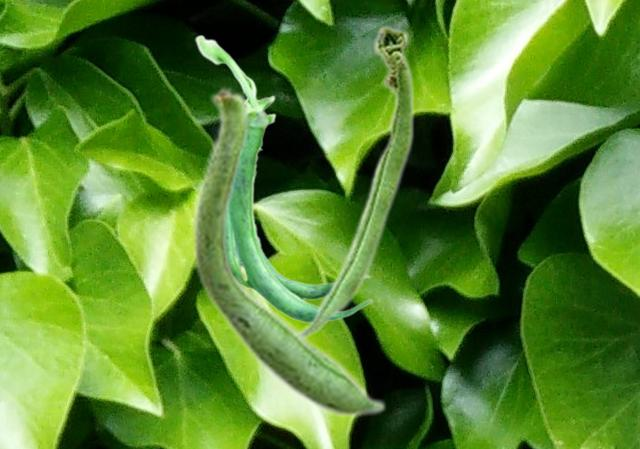french_bean: (191, 84, 386, 418), (194, 34, 372, 323), (300, 23, 414, 339)
